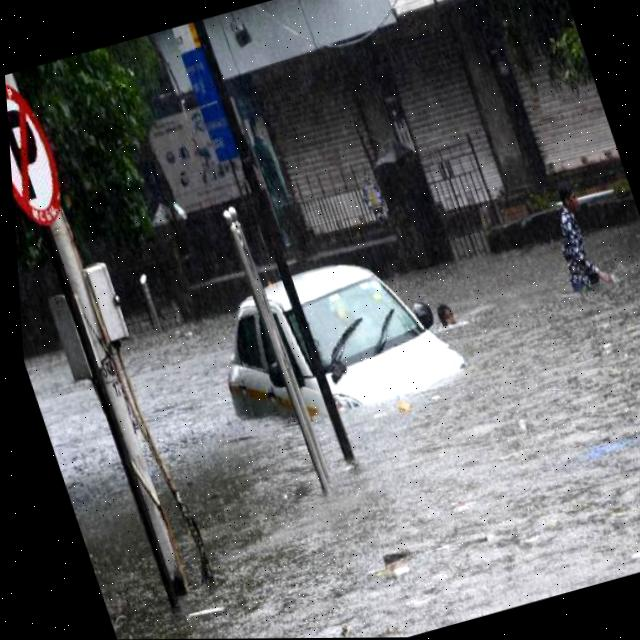civilian: (501, 156, 639, 330)
